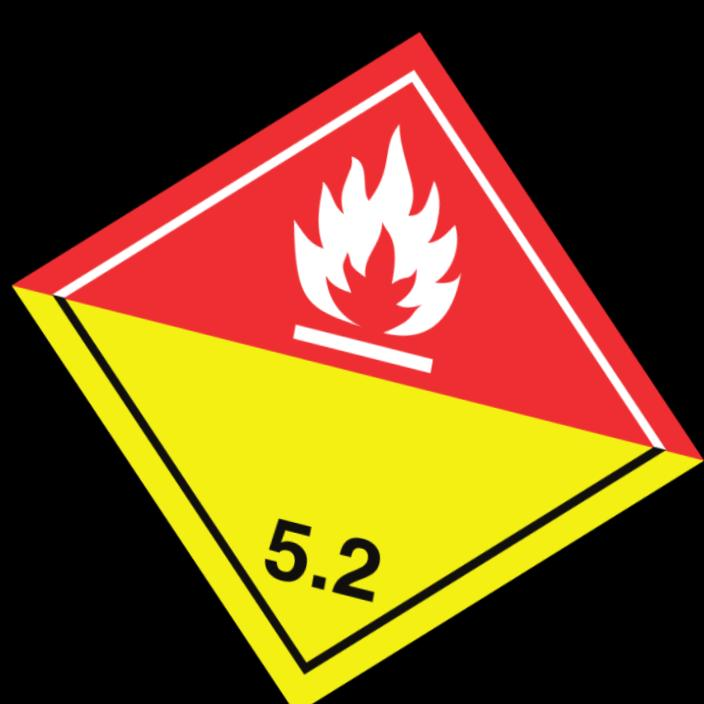defibrillator sign: (11, 32, 703, 704)
